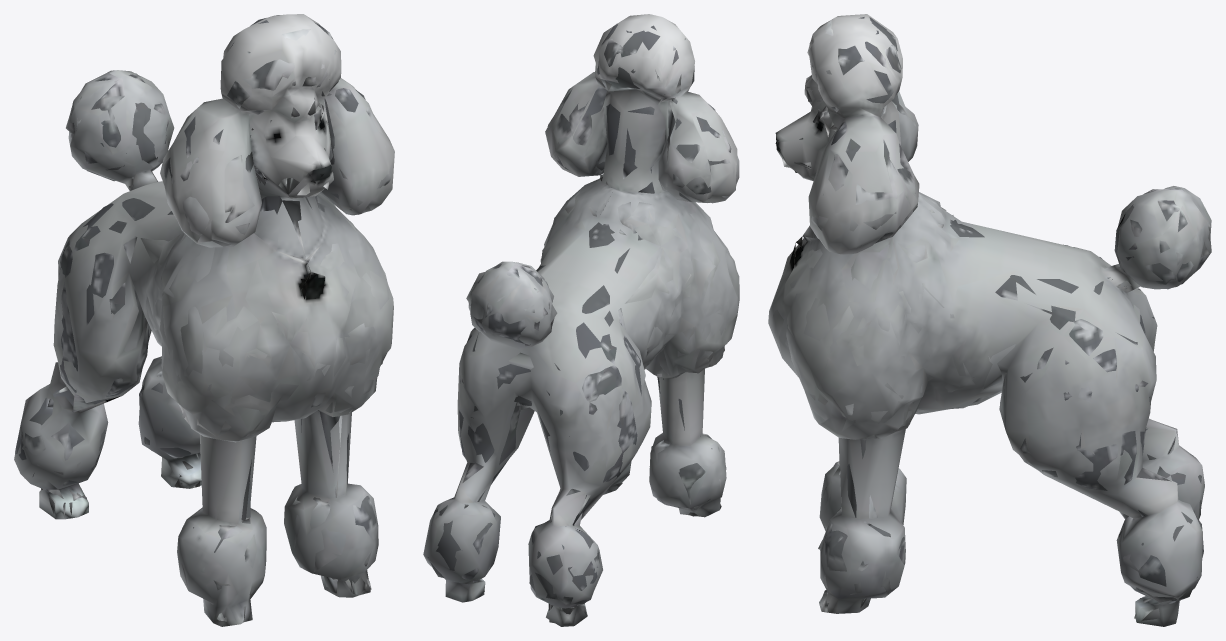
Rendered from detail_6_lo.glb.
3 views of the same model, side by side, from view 1: azimuth 30°, elevation 25°; view 2: azimuth 150°, elevation 25°; view 3: azimuth 270°, elevation 25° (orthographic). The views are drawn at different scales.
Parts seen in each view (by area): view 1: Mesh_0.001; view 2: Mesh_0.001; view 3: Mesh_0.001.
Boxes of the visible parts, bbox=[...] form: Mesh_0.001: bbox=[14, 14, 394, 626]; Mesh_0.001: bbox=[423, 14, 739, 626]; Mesh_0.001: bbox=[768, 14, 1211, 626].
Bounding box in the file's own units: 0.379 × 0.9973 × 0.7057.
1 material, 1 textured.
